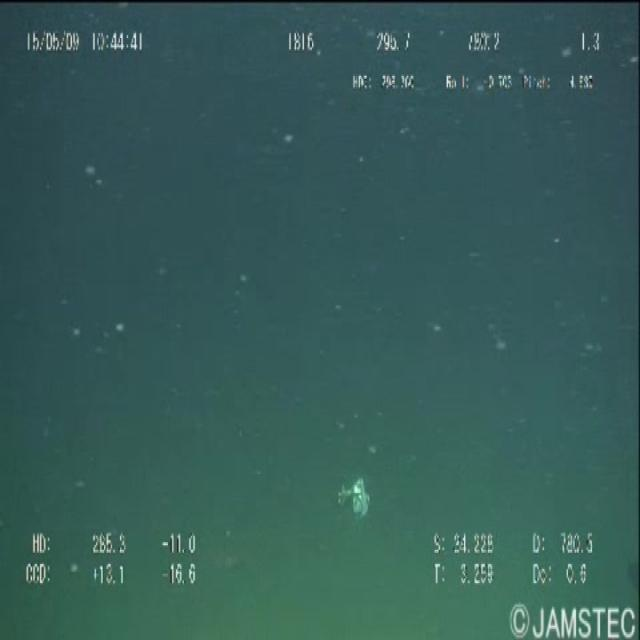Litter: (327, 474, 375, 520)
